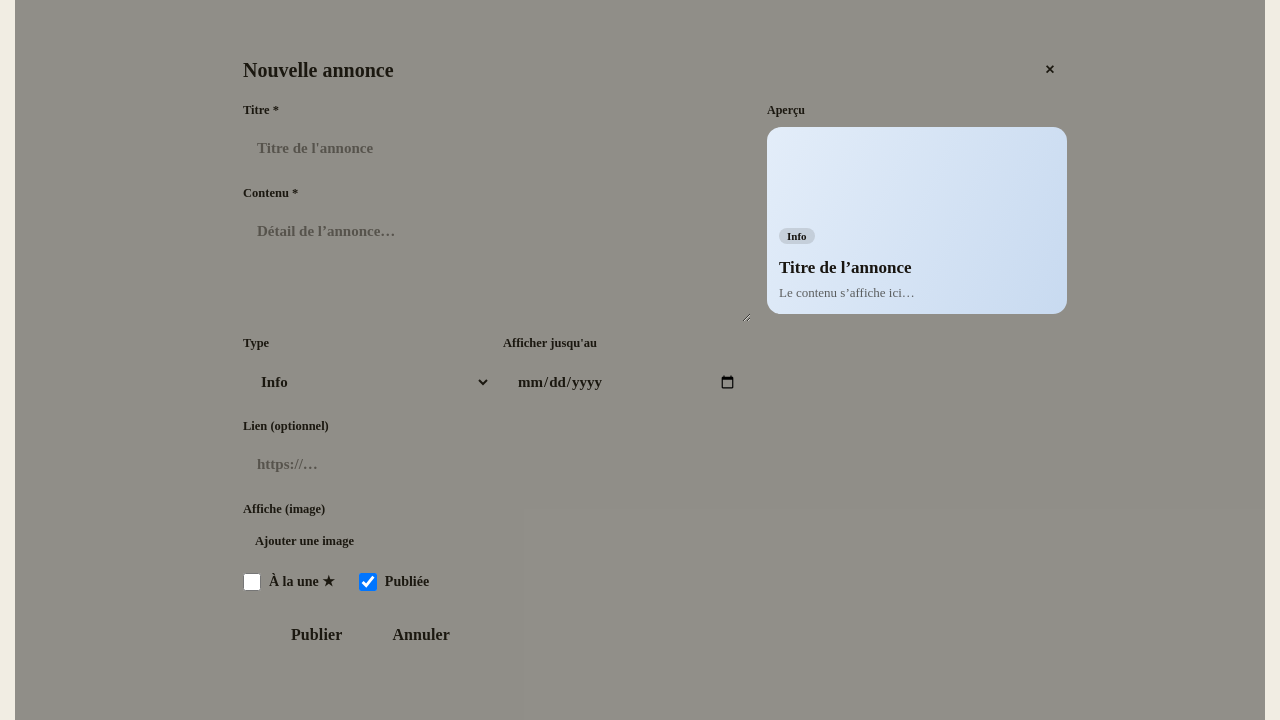
Test: AnnouncementStudio › aperçu en direct : le titre saisi apparaît dans la zone d’aperçu
The image size is (1280, 720).
Type "Tournoi P100" into the field with placeholder "Titre de l'annonce" at (497, 148), box [243,126,751,172]
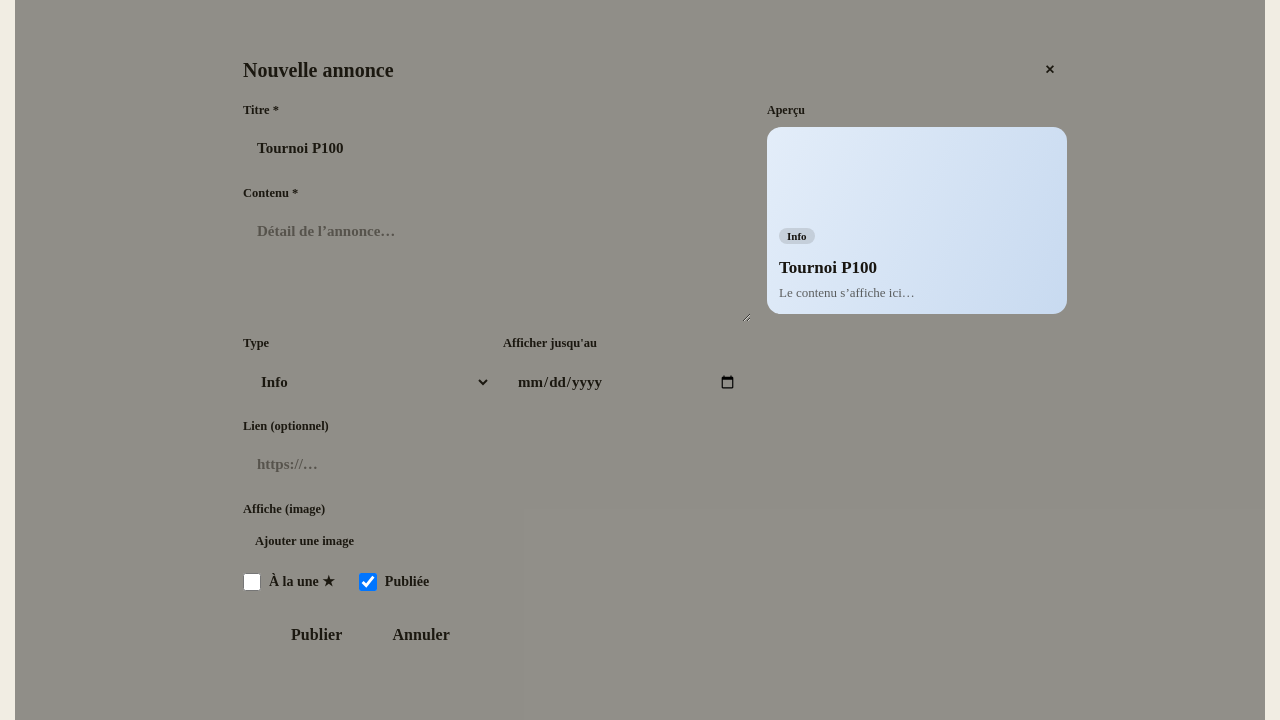
Result: the element with test id "studio-preview" shows "Tournoi P100" at [779,258,877,277]
